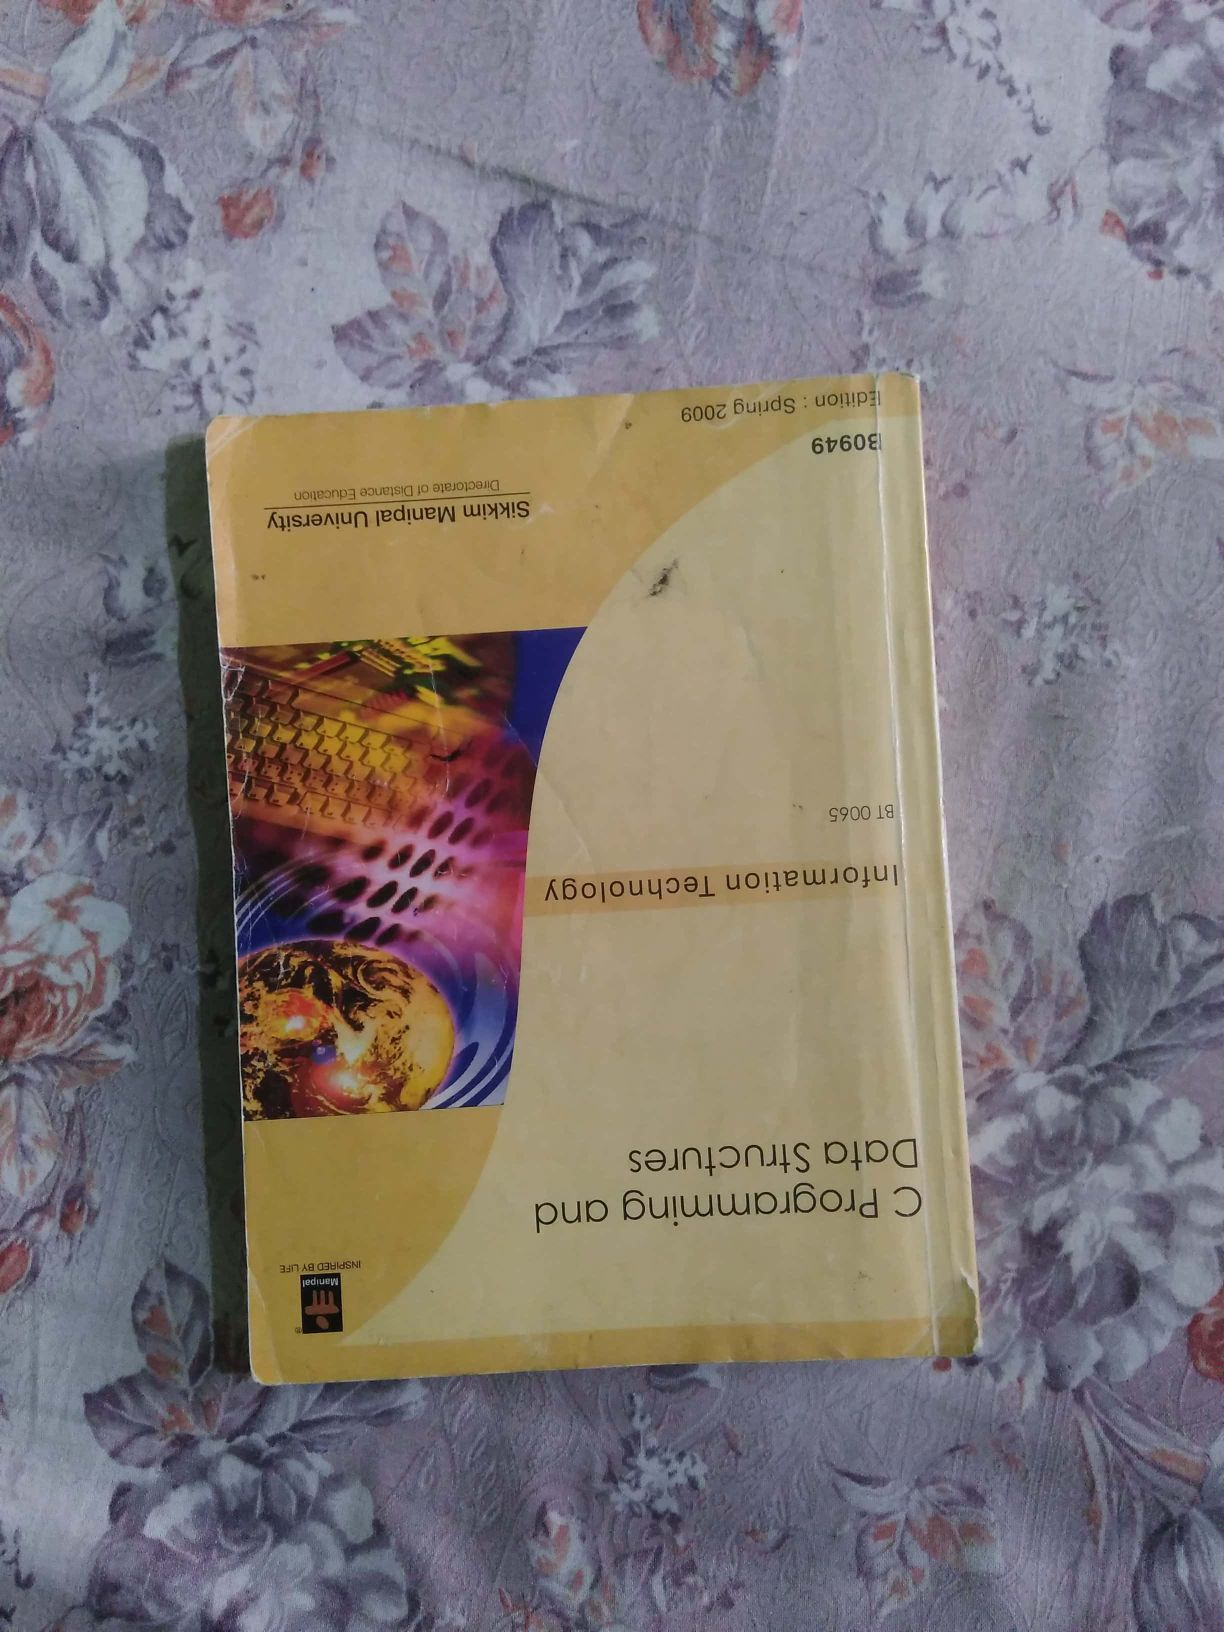clang: (166, 343, 1012, 1397)
